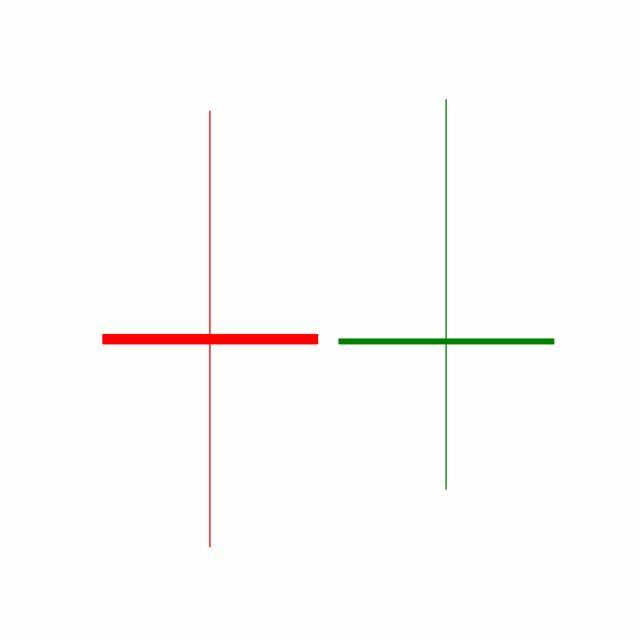Spinning Top: (328, 96, 566, 495)
